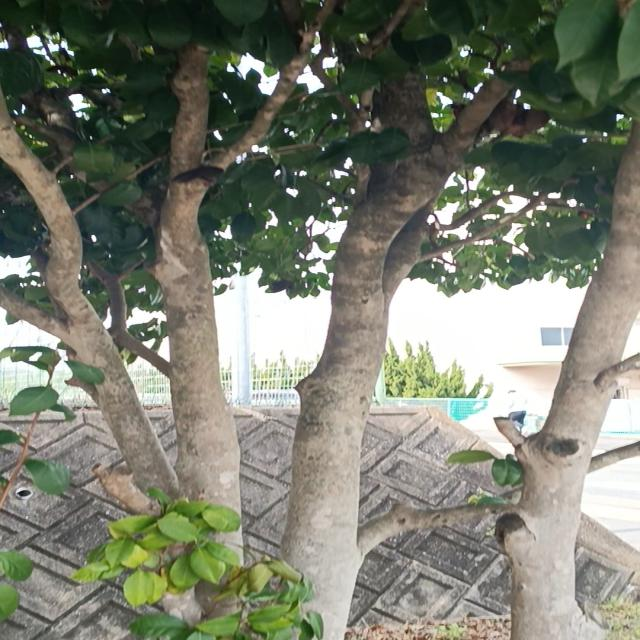Branch: (314, 47, 455, 394), (545, 117, 640, 450), (0, 91, 118, 349), (152, 163, 226, 420), (0, 285, 71, 345), (94, 467, 169, 518), (494, 417, 585, 455)
Twig: (361, 443, 640, 552), (210, 4, 333, 171), (423, 189, 550, 262), (91, 254, 167, 371), (170, 42, 212, 186), (438, 190, 569, 230), (451, 76, 513, 142)
